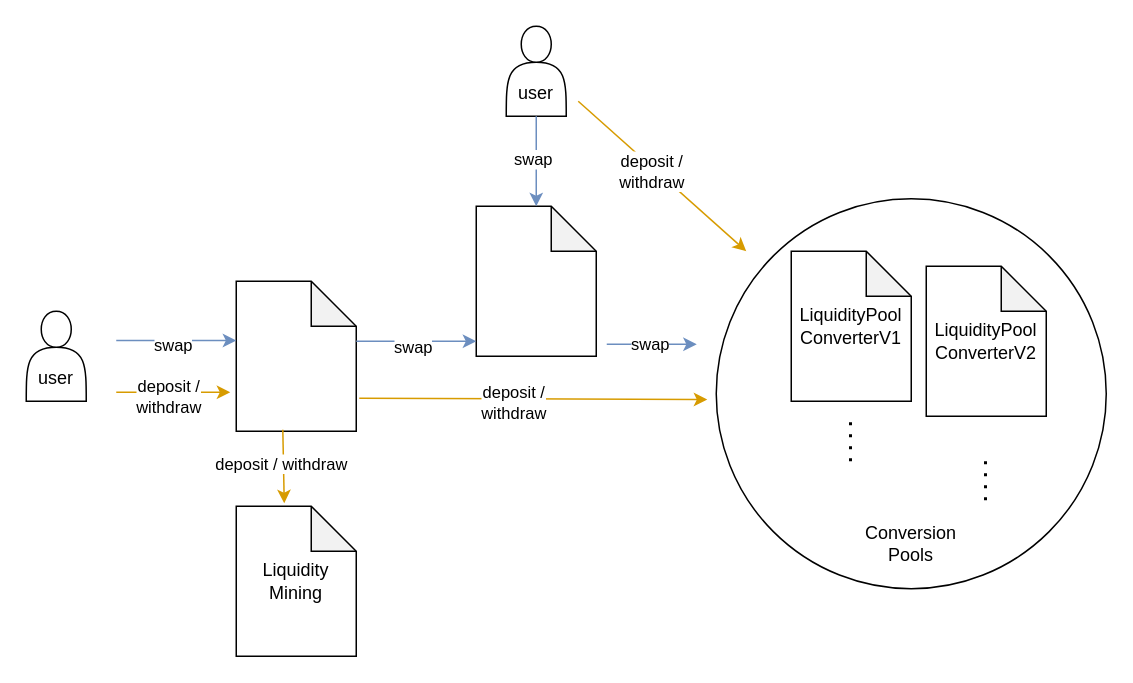
This 1133x683 diagram has some shape labels left out. Here are the shapes that lost their labels. From the top down, the centre of each, then its label:
(x=535, y=280): Swap Network
(x=295, y=355): RBTC Wrapper Proxy
